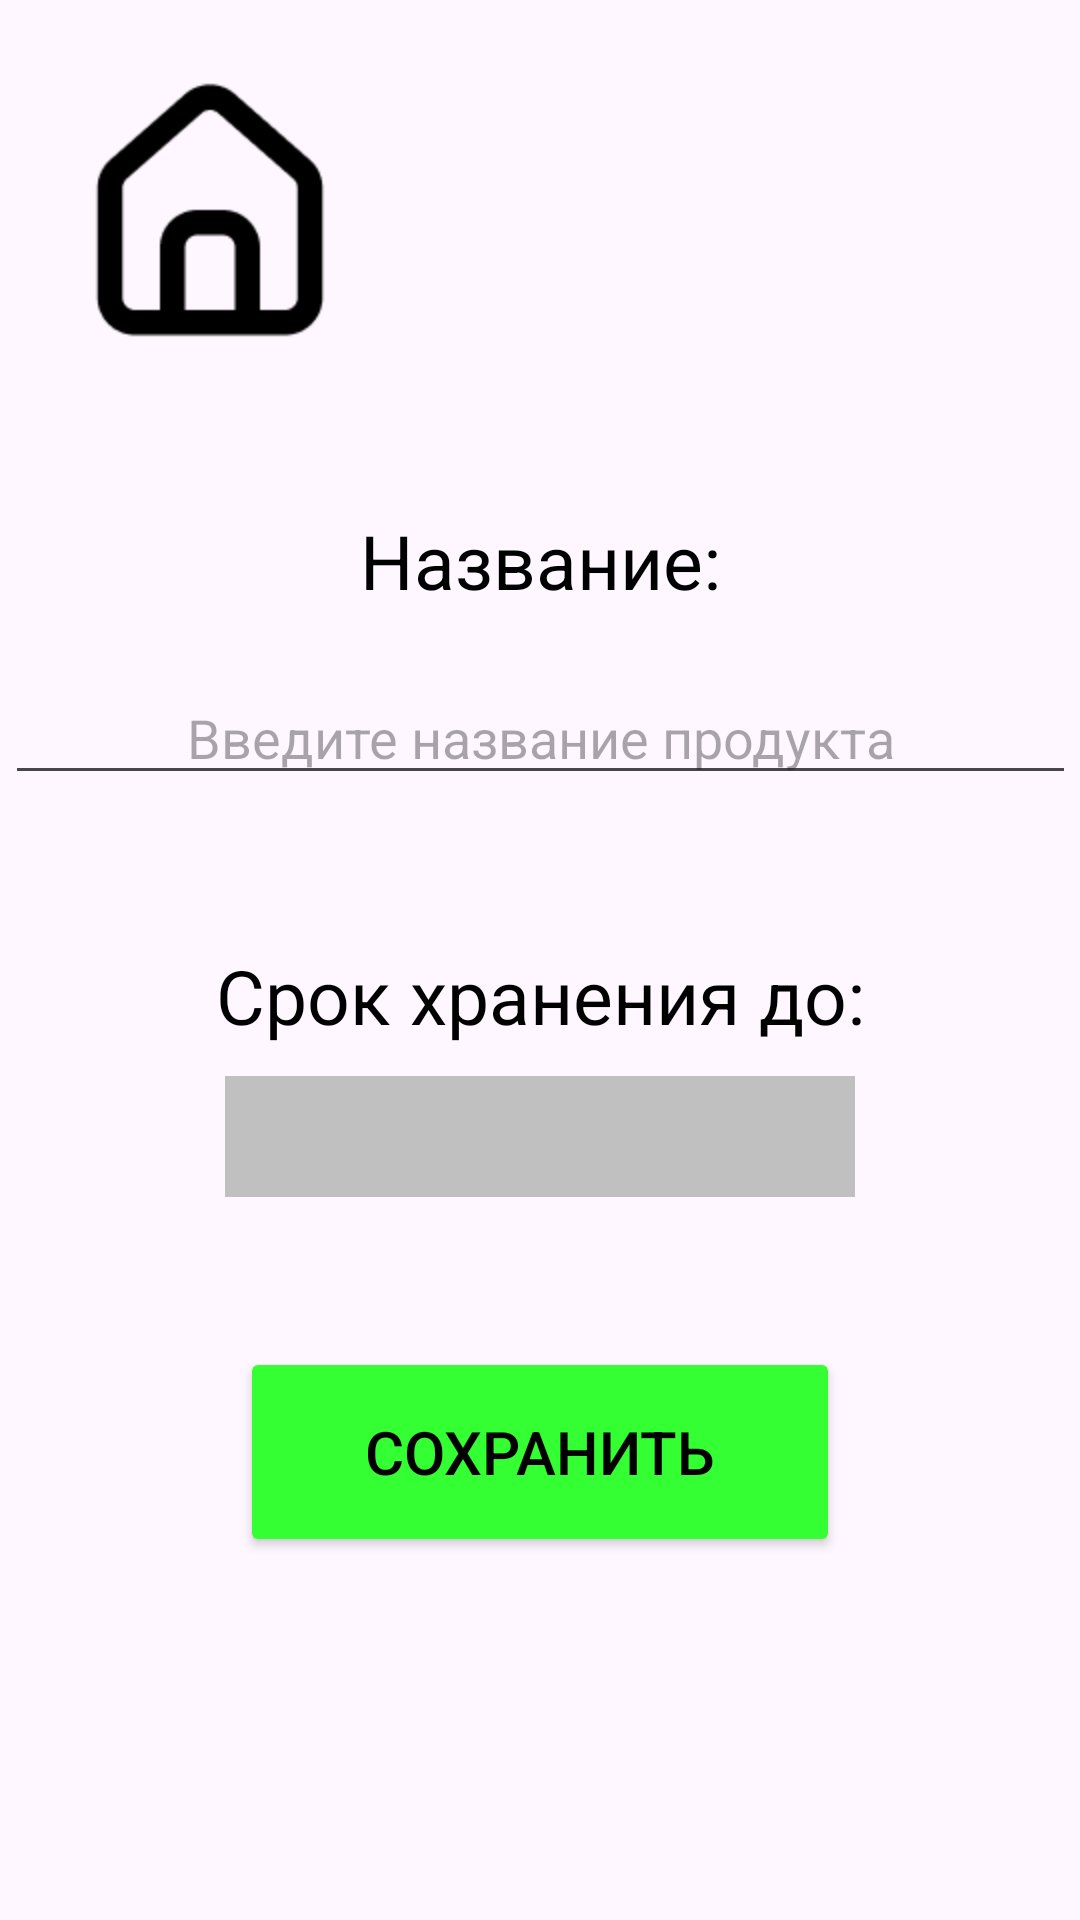

Icons on this 1080w x 1920h Android screen, each with the point to tap as [x,y]:
home: [210,210]
